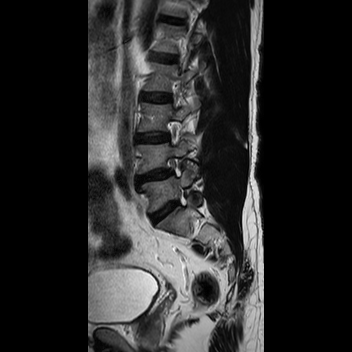RFS0: (160, 113, 188, 150)
RFS1: (161, 149, 187, 181)
